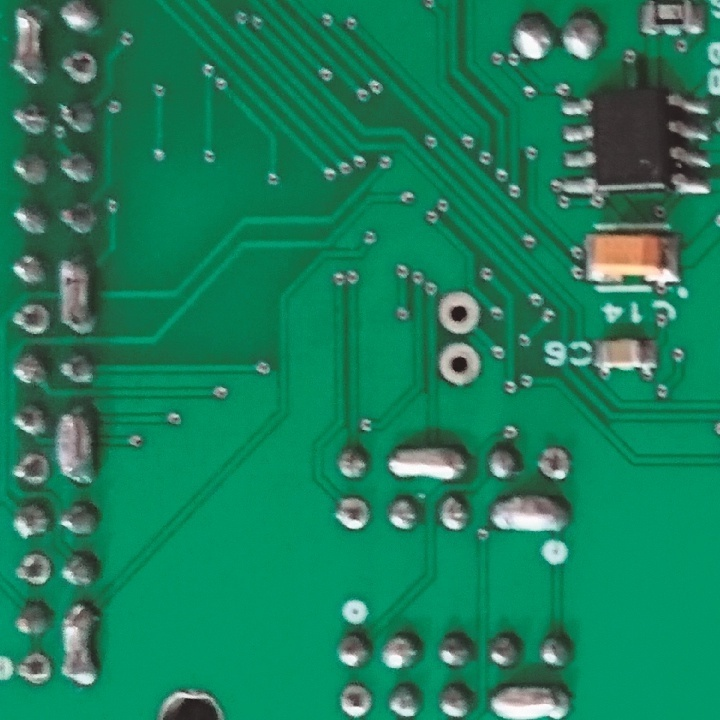F: (435, 341, 484, 387), (436, 289, 482, 337), (331, 493, 373, 535), (336, 680, 377, 720), (13, 551, 56, 589), (9, 300, 53, 337), (57, 49, 99, 87), (13, 652, 56, 687), (10, 452, 54, 486), (536, 443, 573, 481)
P: (60, 600, 104, 691), (54, 403, 101, 488), (486, 491, 569, 537), (385, 442, 469, 483), (56, 253, 98, 335), (10, 1, 49, 89), (488, 680, 571, 720)
